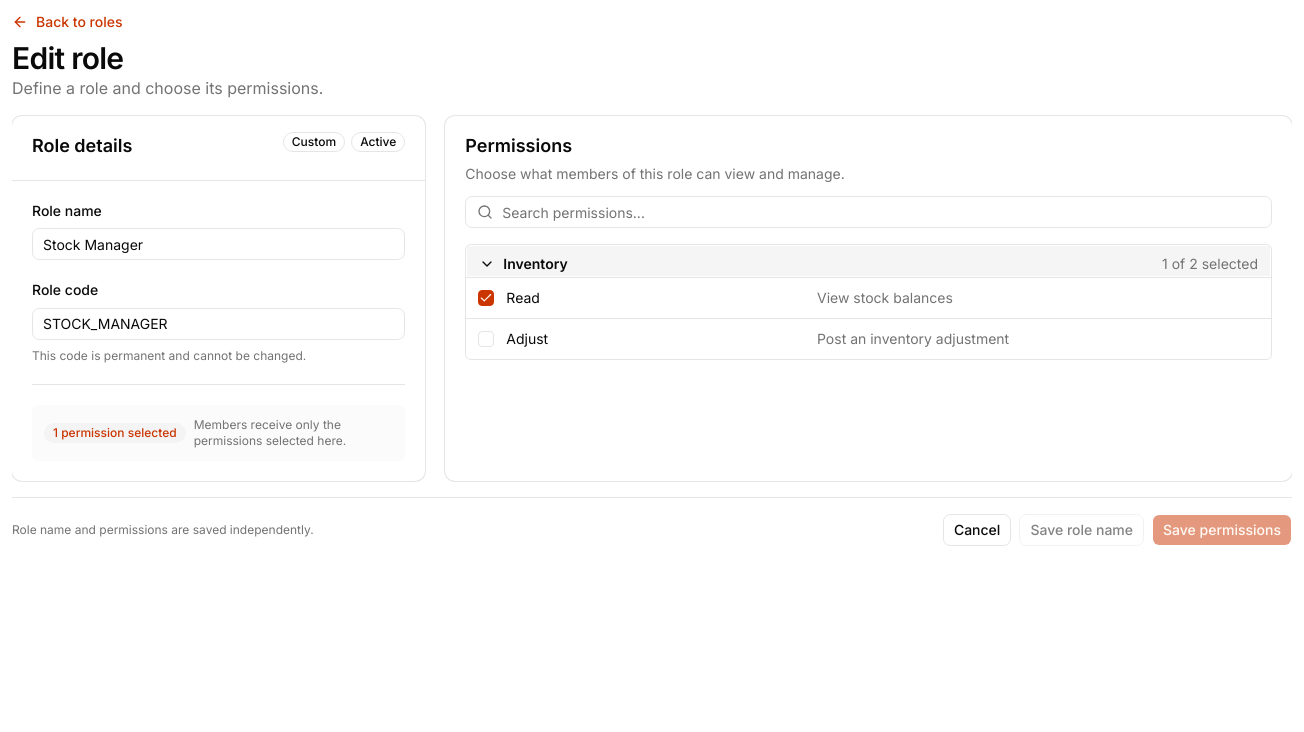
role editor page › keeps permission edits when the role name is saved independently
expect the button "Save role name" is disabled: met, box [1019, 514, 1144, 546]
expect the button "Save permissions" is disabled: met, box [1152, 514, 1292, 546]
Step 1. Replace the text in the field labelled "Role name" with "Senior Stock Manager" → (219, 244), box [32, 228, 405, 260]
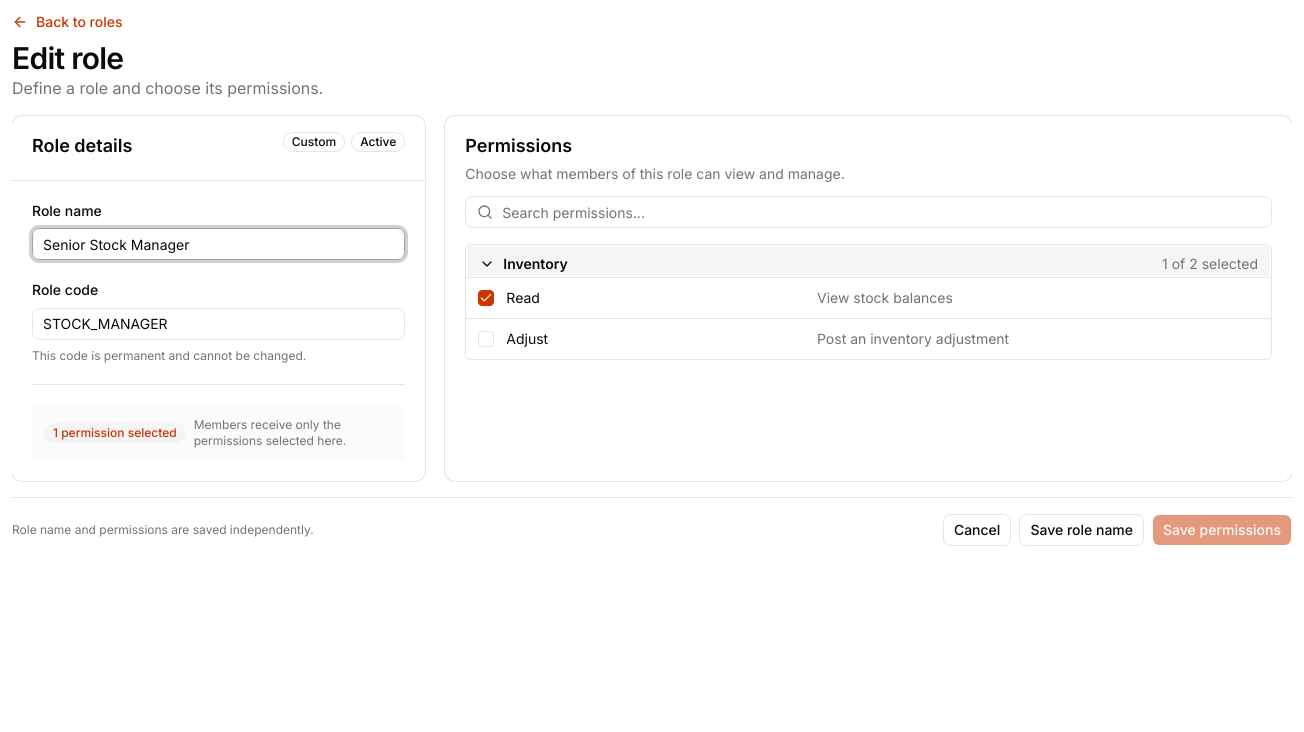
Step 2. Click the checkbox named "Stock Manager inventory.adjust" in the row of "Post an inventory adjustment" → (486, 339), box [478, 331, 494, 347]
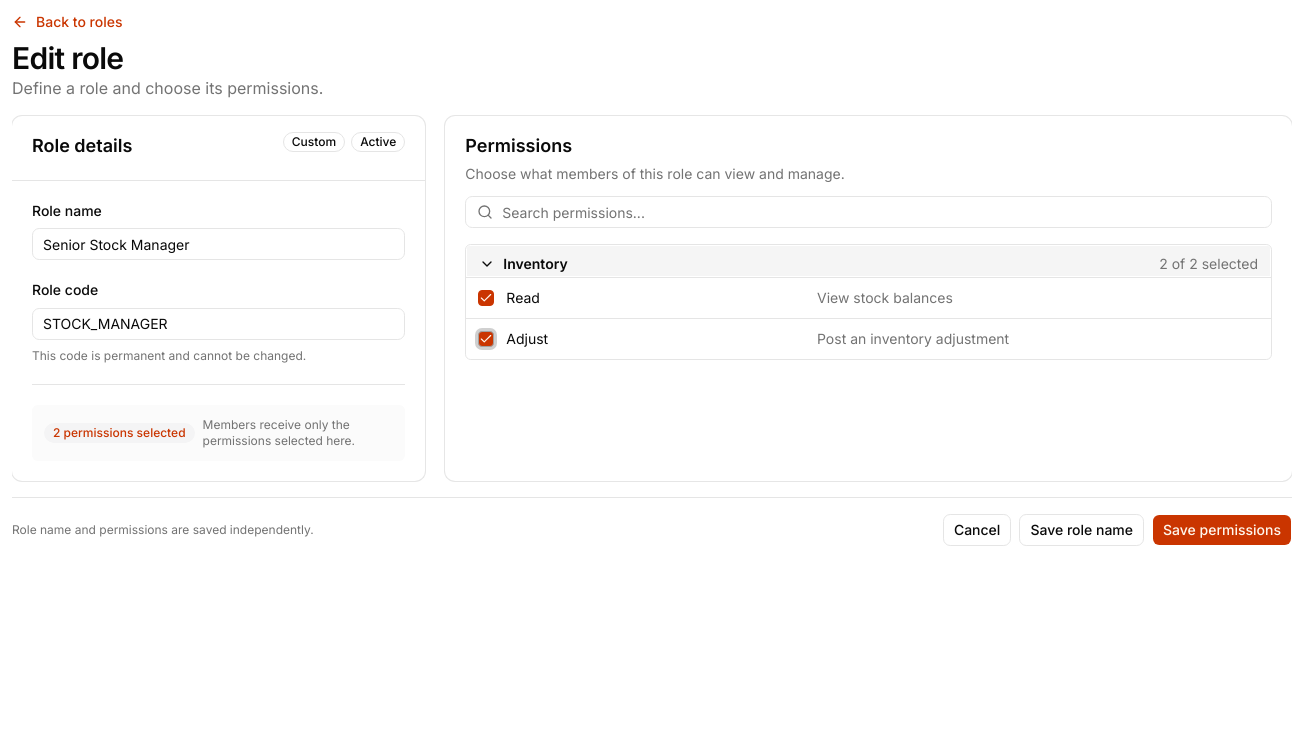
expect the text "2 permissions selected" is shown: met, box [44, 422, 195, 442]
Step 3. Click the button "Save role name" → (1082, 530), box [1019, 514, 1144, 546]
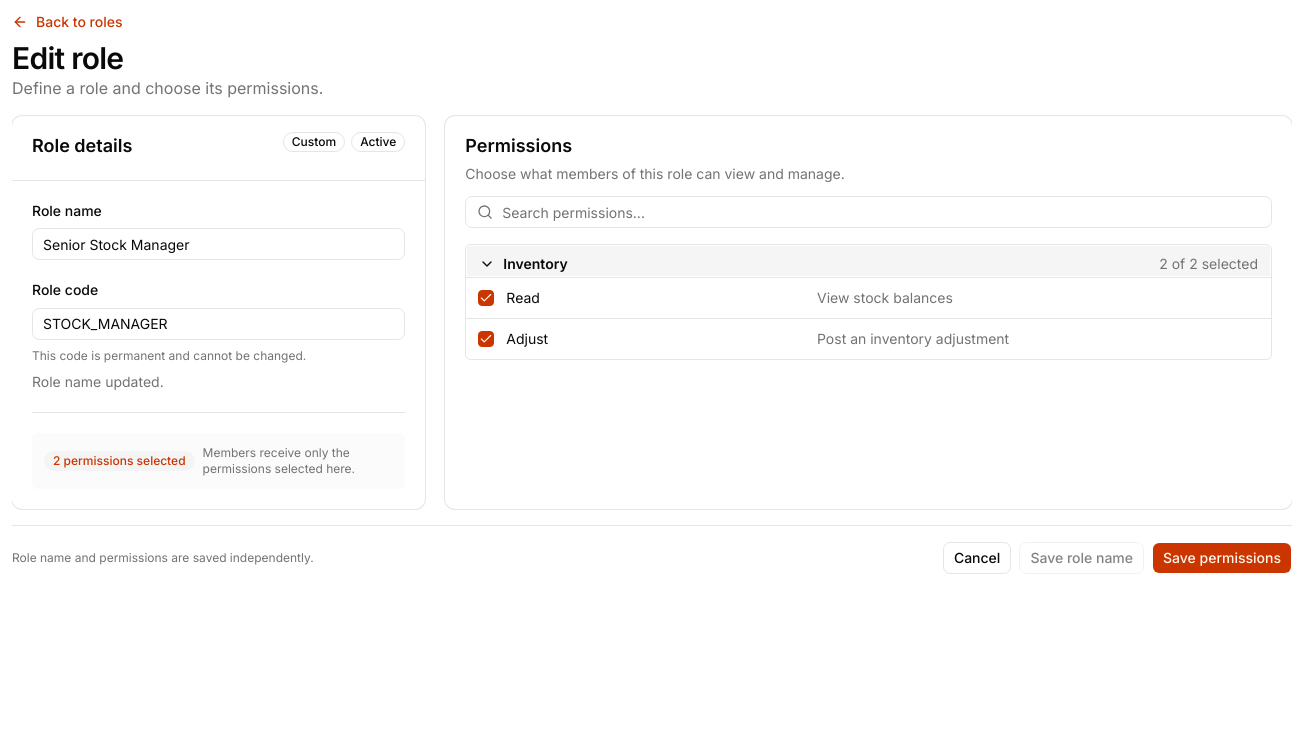
expect the button "Save permissions" is enabled: met, box [1152, 542, 1292, 574]
expect the text "Role name updated." is shown: met, box [32, 372, 164, 390]
Step 4. Replace the text in the field labelled "Role name" with "Chief Stock Manager" → (219, 244), box [32, 228, 405, 260]
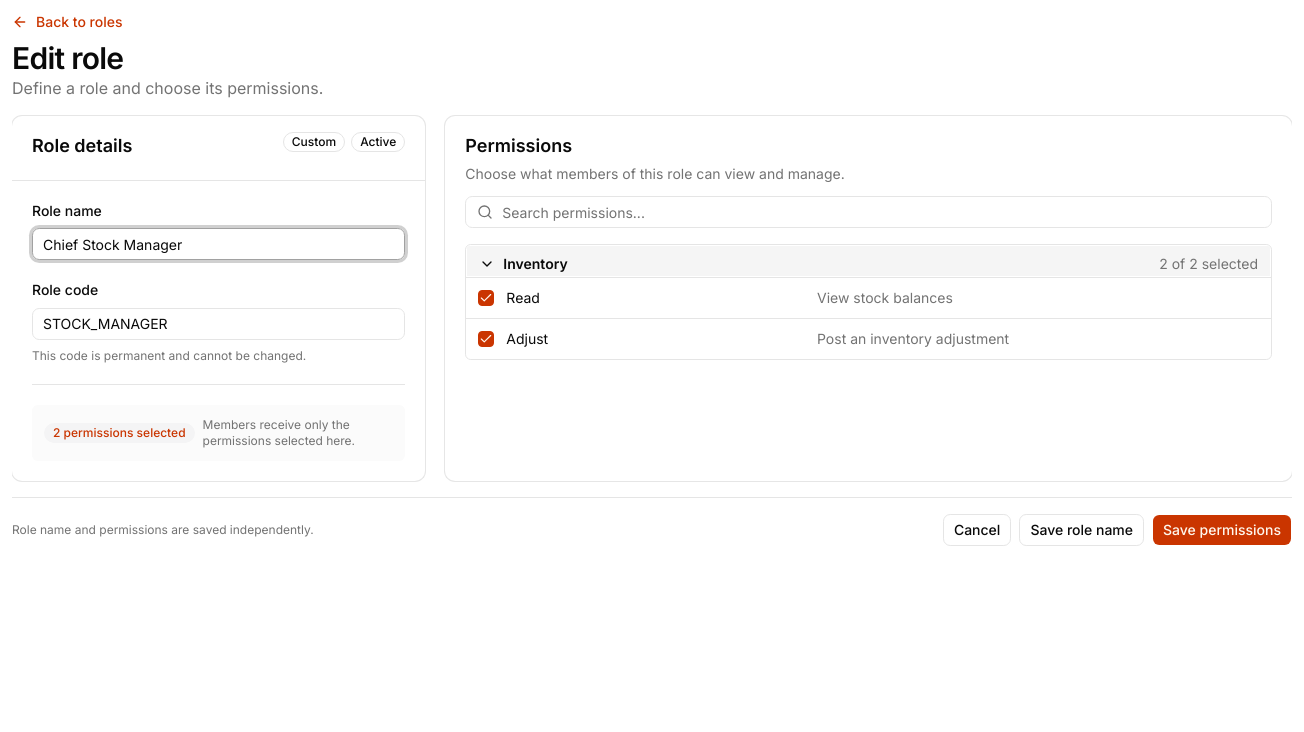
Step 5. Click the button "Save permissions" → (1222, 530), box [1152, 514, 1292, 546]
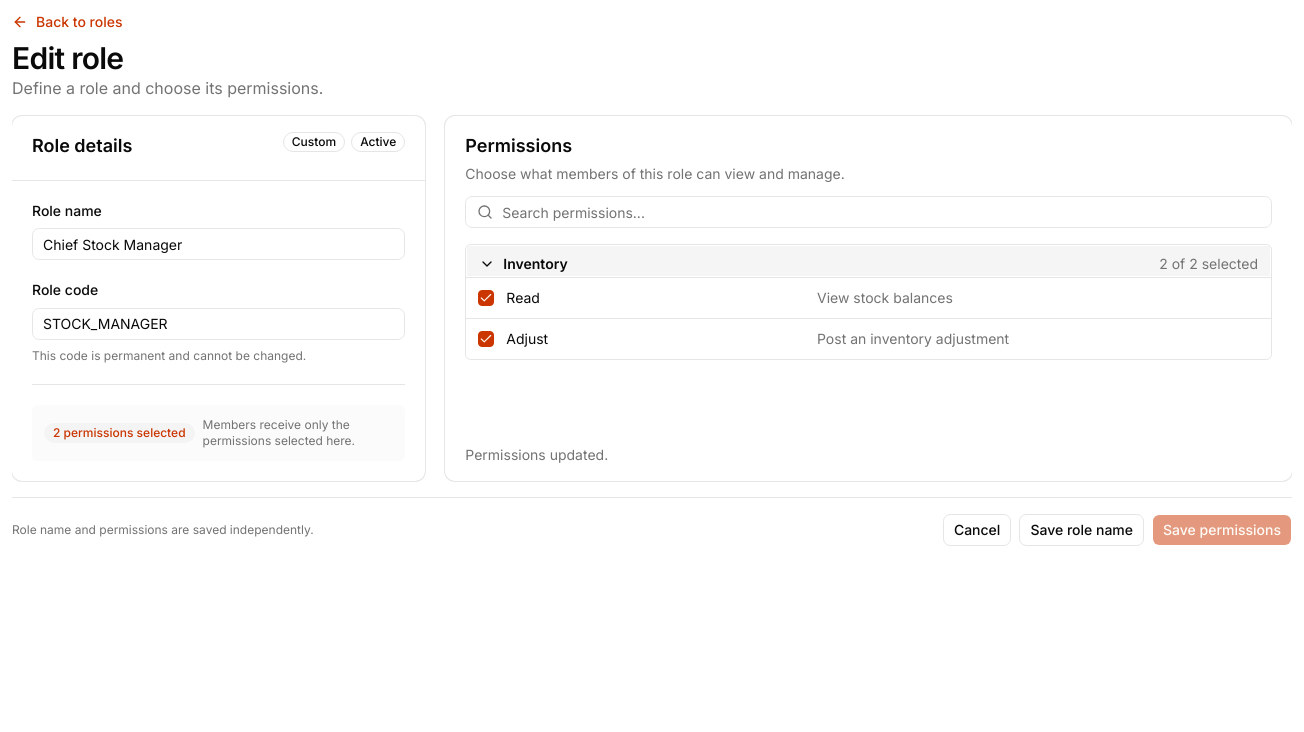
expect the button "Save role name" is enabled: met, box [1019, 514, 1144, 546]
expect the text "Permissions updated." is shown: met, box [465, 446, 608, 462]
